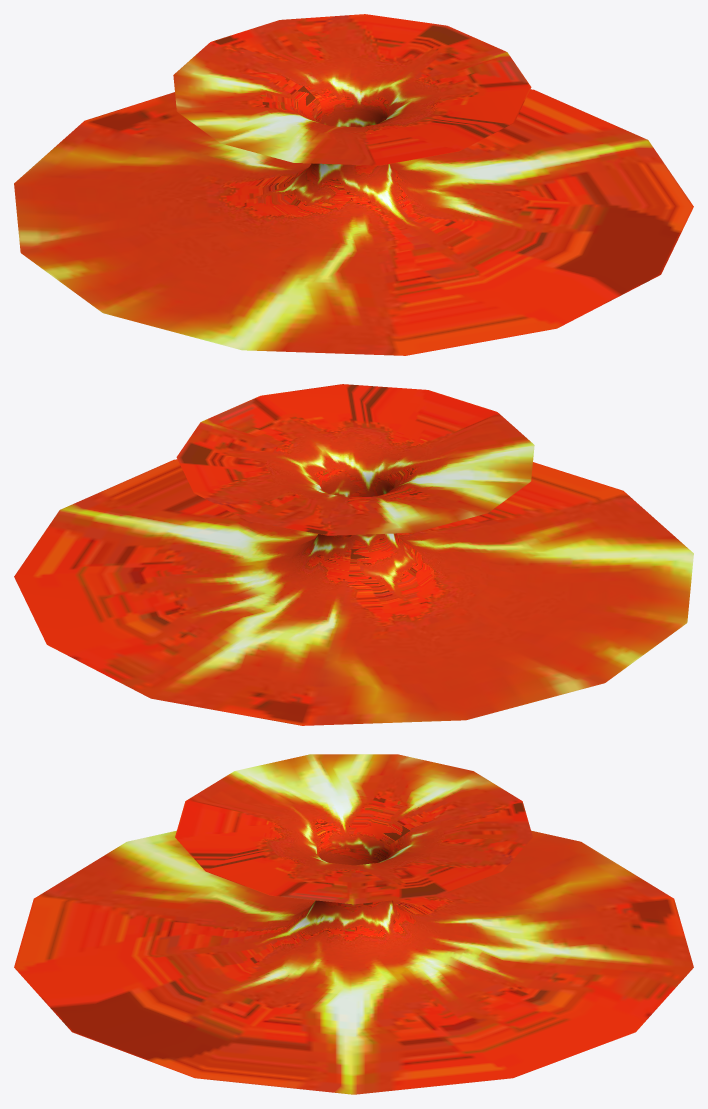
File: mw_daiji.fbx
3 views of the same model, one above another, from view 1: azimuth 30°, elevation 25°; view 2: azimuth 150°, elevation 25°; view 3: azimuth 270°, elevation 25° (orthographic).
Visible parts, largest first — view 1: Cylinder001; view 2: Cylinder001; view 3: Cylinder001.
Part boxes in pixels (left/top/right/bottom): Cylinder001: left=14, top=14, right=693, bottom=355; Cylinder001: left=14, top=384, right=693, bottom=725; Cylinder001: left=14, top=754, right=693, bottom=1094.
Size of the model in its own units: 11.09 by 2.21 by 11.17.
1 material, 1 textured.
